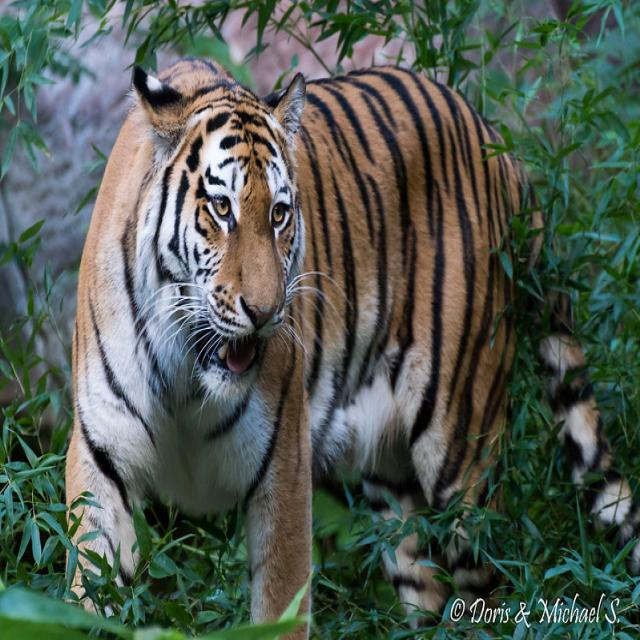Tiger: (59, 41, 598, 594)
